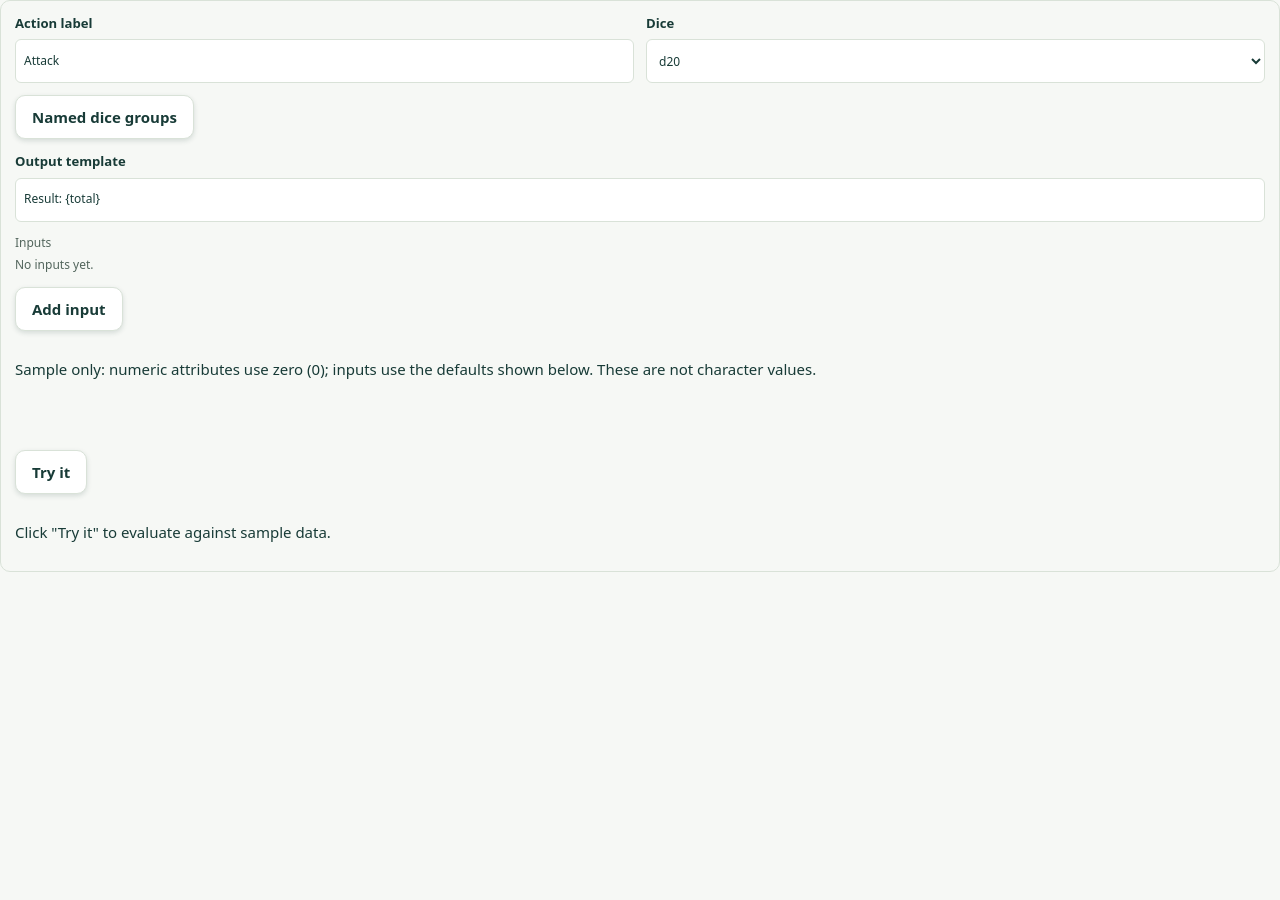
Scenario: RollActionEditor › selecting custom opens the expression editor without persisting a source
Select "Custom (edited in Advanced)" in the dropdown with test id "dice-kind-atk" at (956, 61), box [646, 39, 1265, 83]
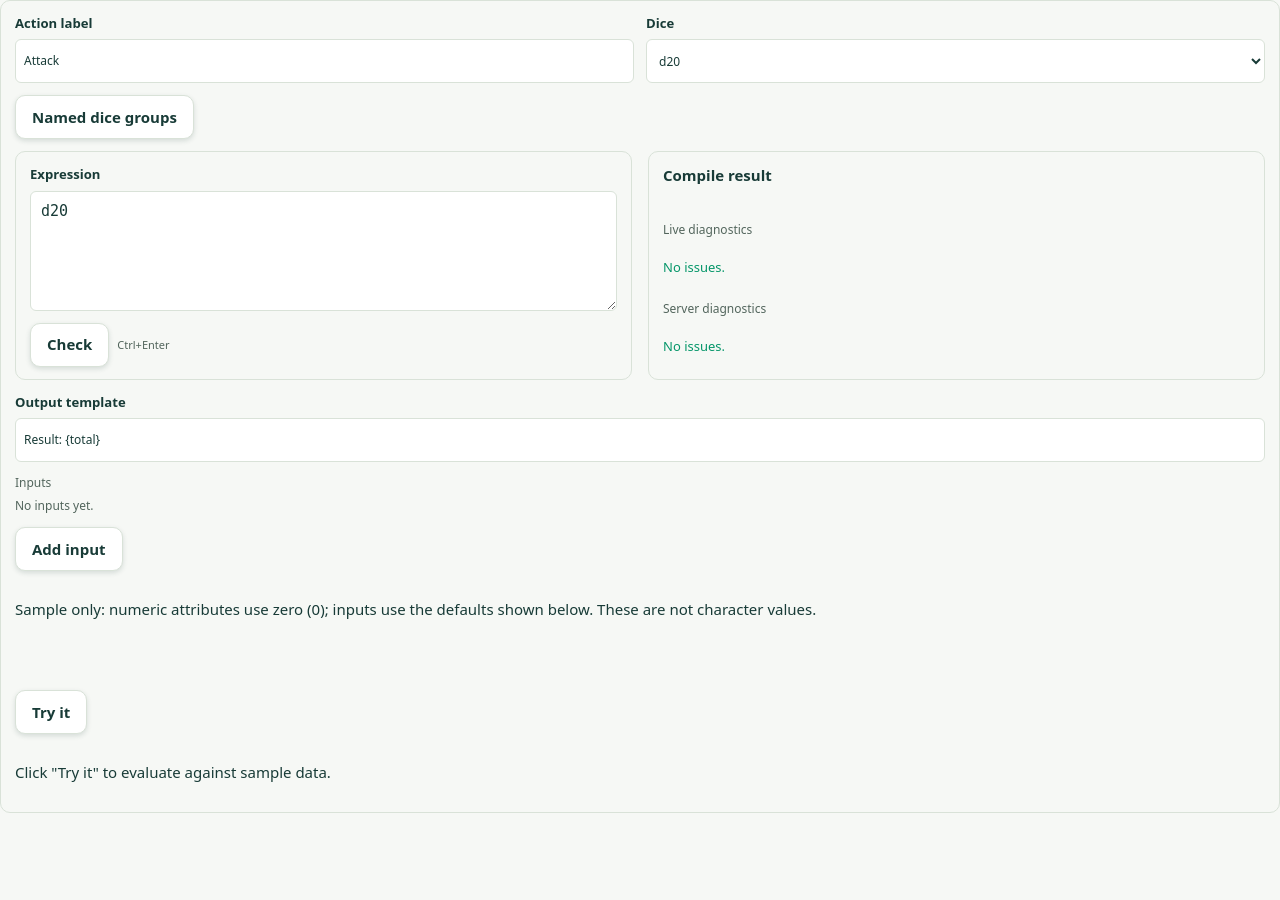
Expected: the text box with test id "expression-editor-source" holds "d20", [30, 191, 617, 311]
